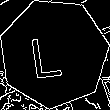L_N: (35, 26, 73, 80)
